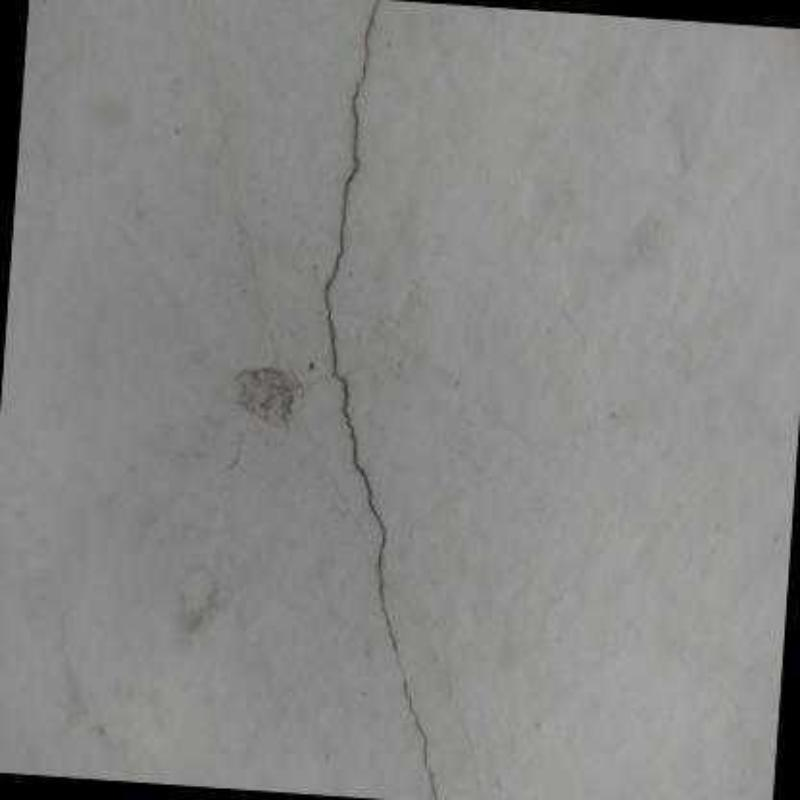pothole: (326, 2, 437, 799)
